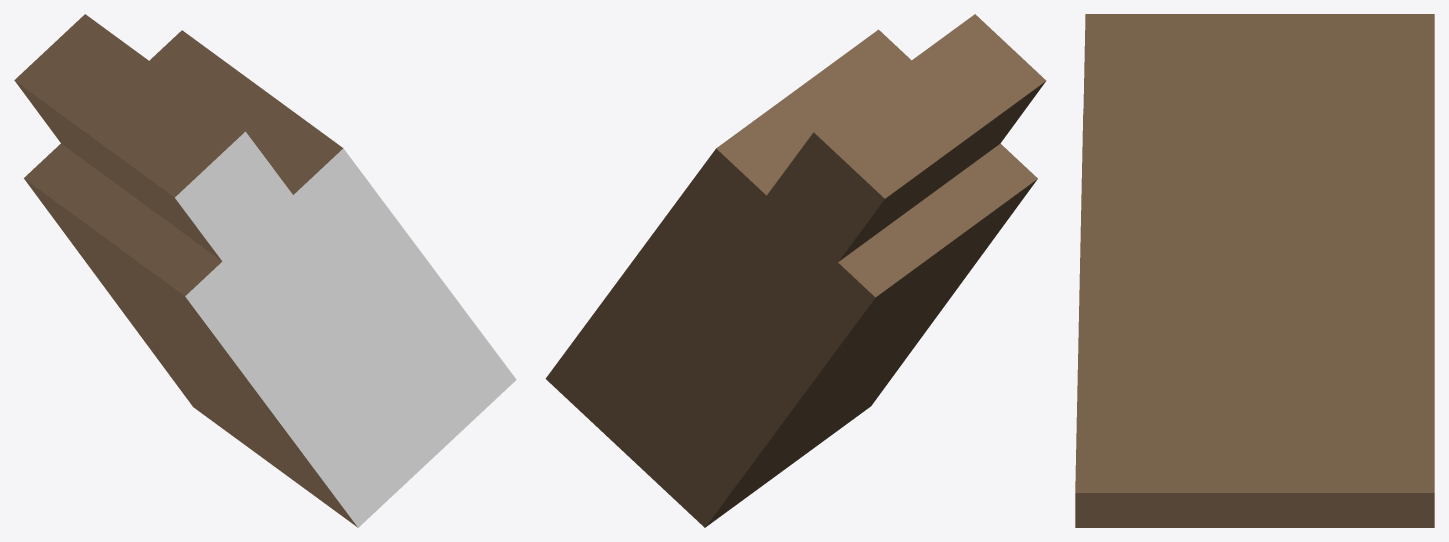
3 views of the same model, side by side, from view 1: azimuth 30°, elevation 25°; view 2: azimuth 150°, elevation 25°; view 3: azimuth 270°, elevation 25° (orthographic). The views are drawn at different scales.
Visible parts, largest first — view 1: City_2317251; view 2: City_2317251; view 3: City_2317251.
Part boxes in pixels (x1,y1,x2,y2): City_2317251: (14,14,516,527); City_2317251: (545,14,1046,527); City_2317251: (1075,14,1434,527).
Bounding box in the file's own units: 1323 × 1573 × 1122.
